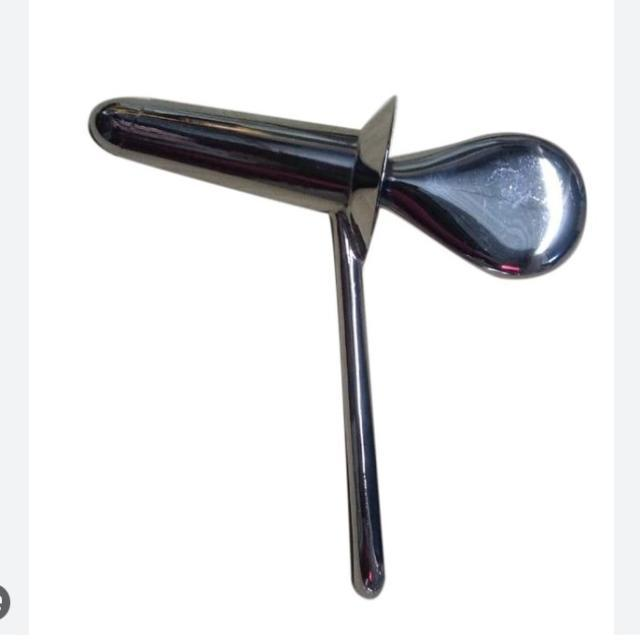Protoscope: (80, 76, 600, 606)
